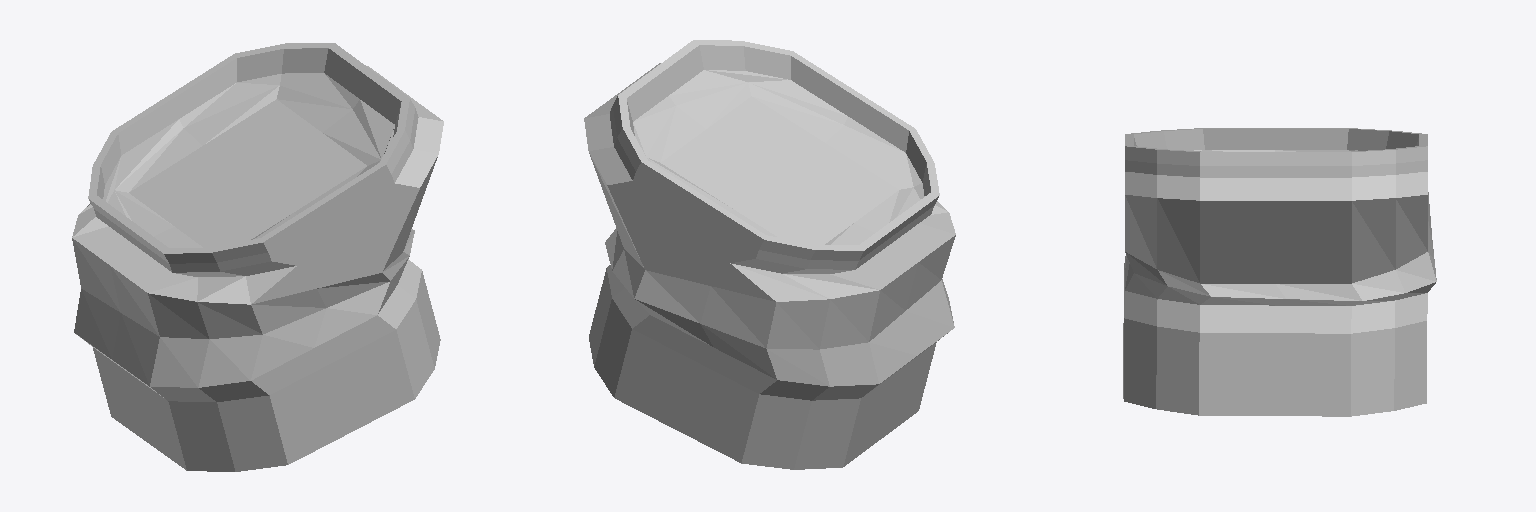
Rendered from aggression-beverage.obj.
3 renders of one model, left to right at view 1: azimuth 30°, elevation 25°; view 2: azimuth 150°, elevation 25°; view 3: azimuth 270°, elevation 25°, orthographic.
Bounding box in the file's own units: 2.26 × 2.32 × 2.07.